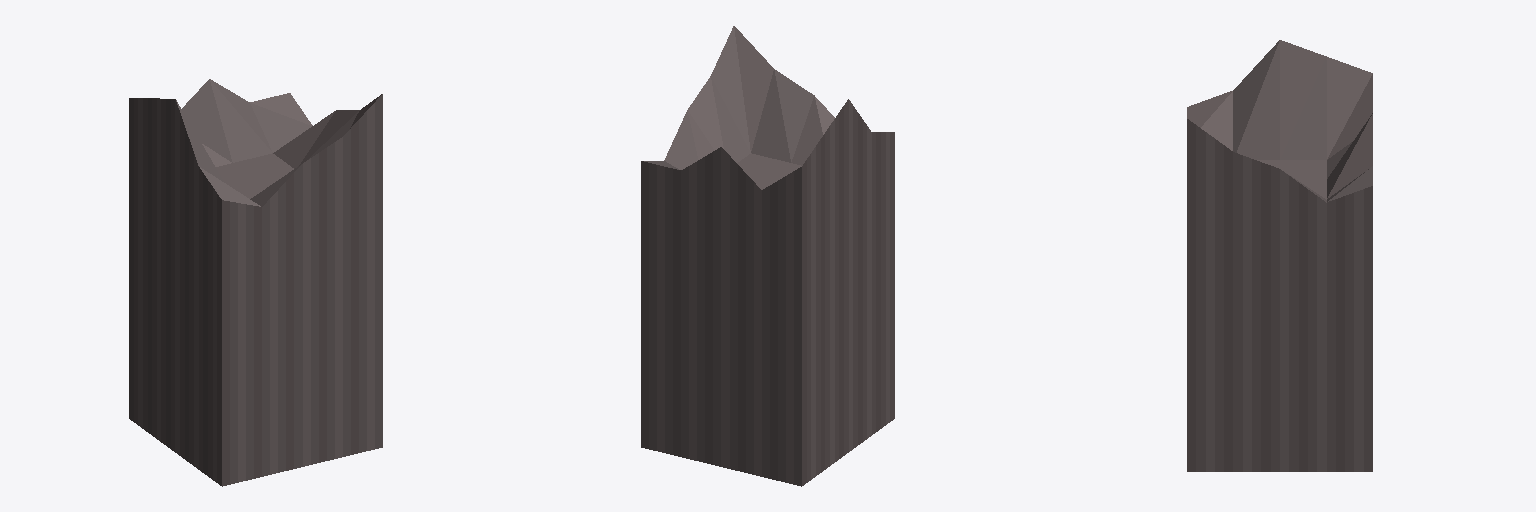
The picture shows the model from 3 angles: view 1: azimuth 30°, elevation 25°; view 2: azimuth 150°, elevation 25°; view 3: azimuth 270°, elevation 25°; orthographic projection.
Parts seen in each view (by area): view 1: cuboid; view 2: cuboid; view 3: cuboid.
Part boxes in pixels (x1,y1,x2,y2): cuboid: (129, 79, 382, 486); cuboid: (641, 26, 894, 486); cuboid: (1187, 40, 1372, 471).
Size of the model in its own units: 0.625 by 1.31 by 0.625.
1 materials, 1 textured.